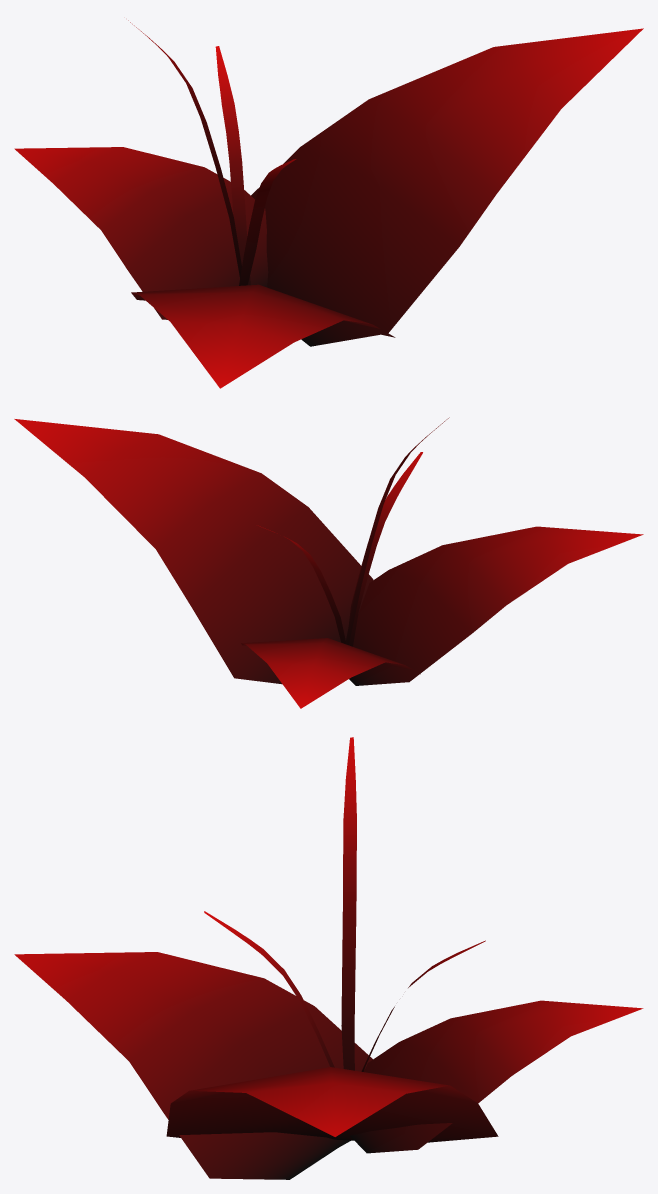
The model's file is LargeLeafCluster_01.fbx.
3 views of the same model, one above another, from view 1: azimuth 30°, elevation 25°; view 2: azimuth 150°, elevation 25°; view 3: azimuth 270°, elevation 25° (orthographic). The views are drawn at different scales.
Parts seen in each view (by area): view 1: LargeLeafCluster_01; view 2: LargeLeafCluster_01; view 3: LargeLeafCluster_01.
Part boxes in pixels (<box>): LargeLeafCluster_01: <box>14,20,643,388</box>; LargeLeafCluster_01: <box>14,417,643,708</box>; LargeLeafCluster_01: <box>14,737,643,1179</box>.
Bounding box in the file's own units: 271 × 149 × 245.
